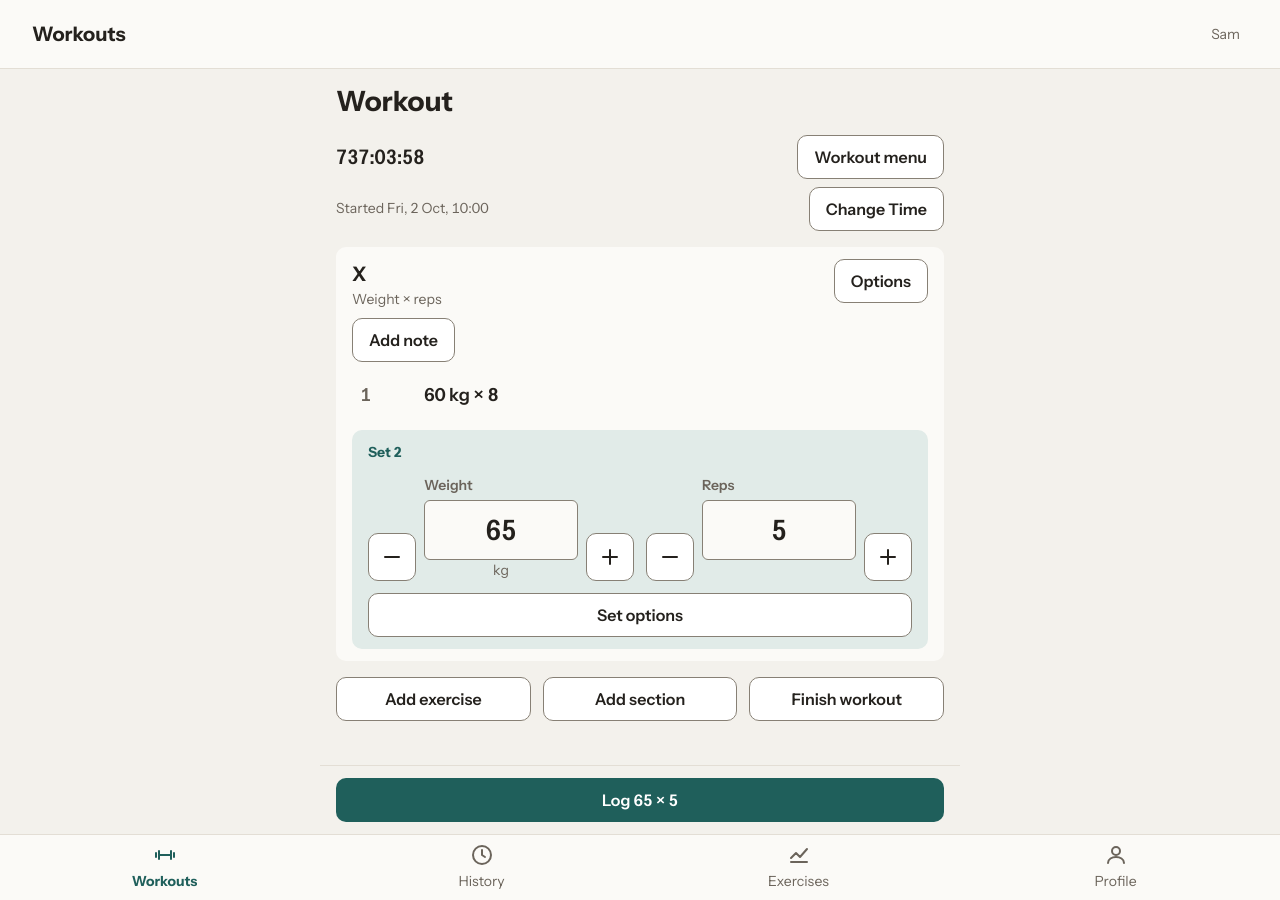
Test case: 17.1 AC2 — a new set never inherits a hidden RPE (security review, 2026-10-16) › a draft restored with an rpe logs with no rpe key
expect the heading "Workout" is shown: met, box [336,84,453,118]
expect the field labelled "Weight" holds "65": met, box [424,500,578,560]
Click the button "Log 65 × 5".
click(640, 800)  # box [336,778,944,822]
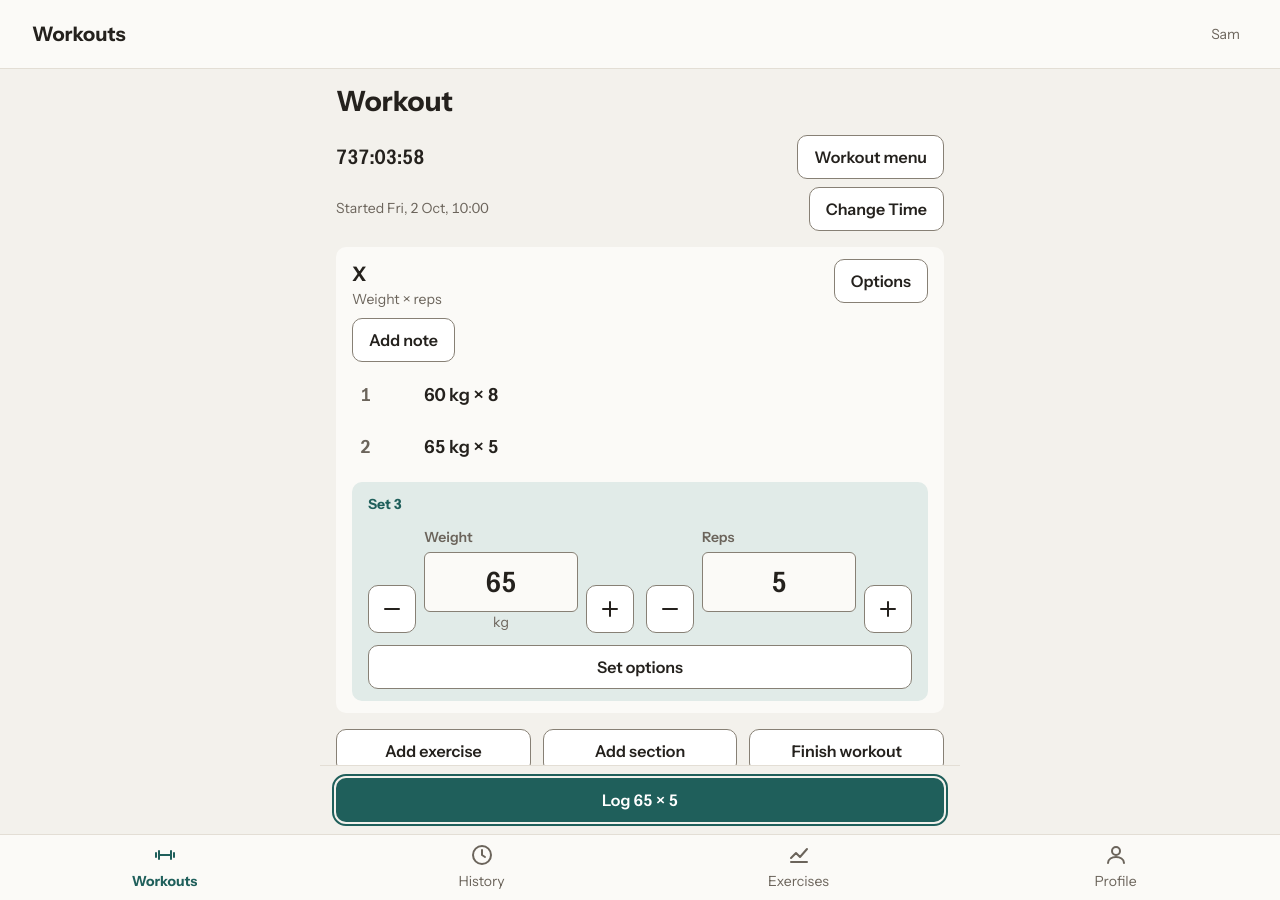
expect the text "65 kg × 5" is shown: met, box [424,434,498,461]
